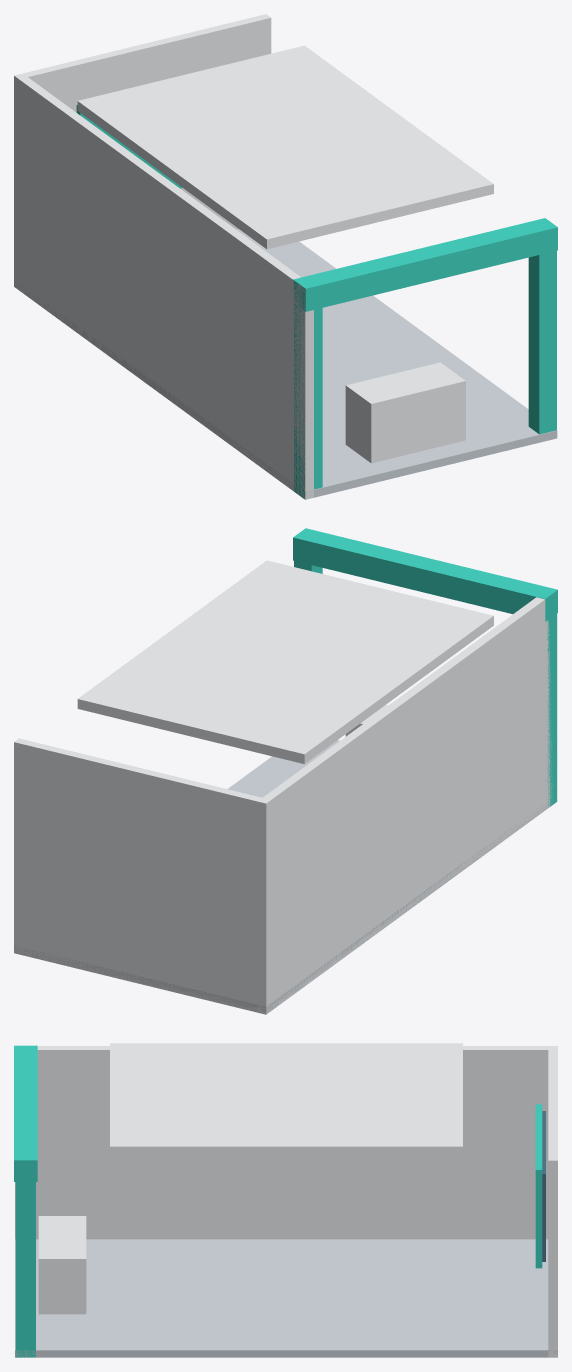
3 views of the same model, one above another, from view 1: azimuth 30°, elevation 25°; view 2: azimuth 150°, elevation 25°; view 3: azimuth 270°, elevation 25° (orthographic). The views are drawn at different scales.
Parts seen in each view (by area): view 1: Exhibition Booth Concept; view 2: Exhibition Booth Concept; view 3: Exhibition Booth Concept.
Part boxes in pixels (x1,y1,x2,y2): Exhibition Booth Concept: (14,14,557,499); Exhibition Booth Concept: (14,528,557,1014); Exhibition Booth Concept: (14,1043,557,1357).
Size of the model in its own units: 4 by 3.34 by 8.01.
